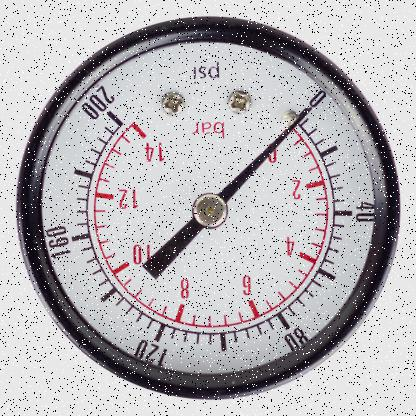needle: (216, 105, 314, 204)
